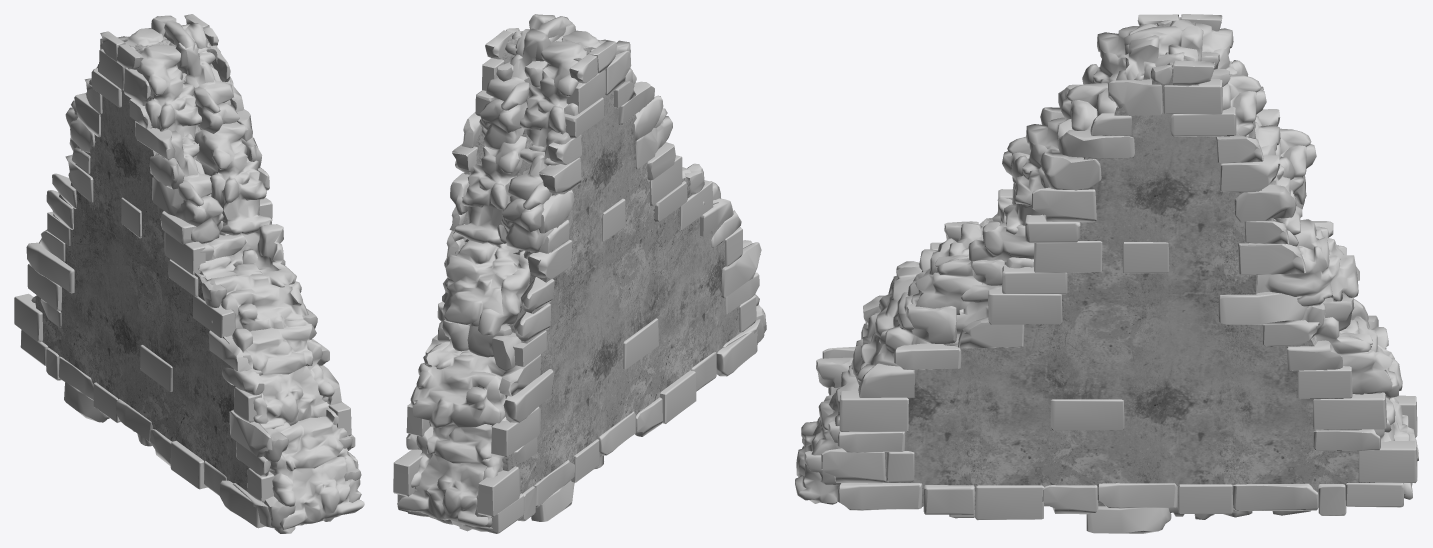
File: SM_Wall_8x8_Broken_01e.fbx
3 renders of one model, left to right at view 1: azimuth 30°, elevation 25°; view 2: azimuth 150°, elevation 25°; view 3: azimuth 270°, elevation 25°, orthographic. The views are drawn at different scales.
Parts seen in each view (by area): view 1: SM_Wall_8x8_Broken_01e_LOD0; view 2: SM_Wall_8x8_Broken_01e_LOD0; view 3: SM_Wall_8x8_Broken_01e_LOD0.
Part boxes in pixels (x1=…): SM_Wall_8x8_Broken_01e_LOD0: x1=14, y1=14, x2=364, y2=533; SM_Wall_8x8_Broken_01e_LOD0: x1=393, y1=14, x2=766, y2=533; SM_Wall_8x8_Broken_01e_LOD0: x1=795, y1=14, x2=1418, y2=533.
Size of the model in its own units: 233 by 1033 by 881.
